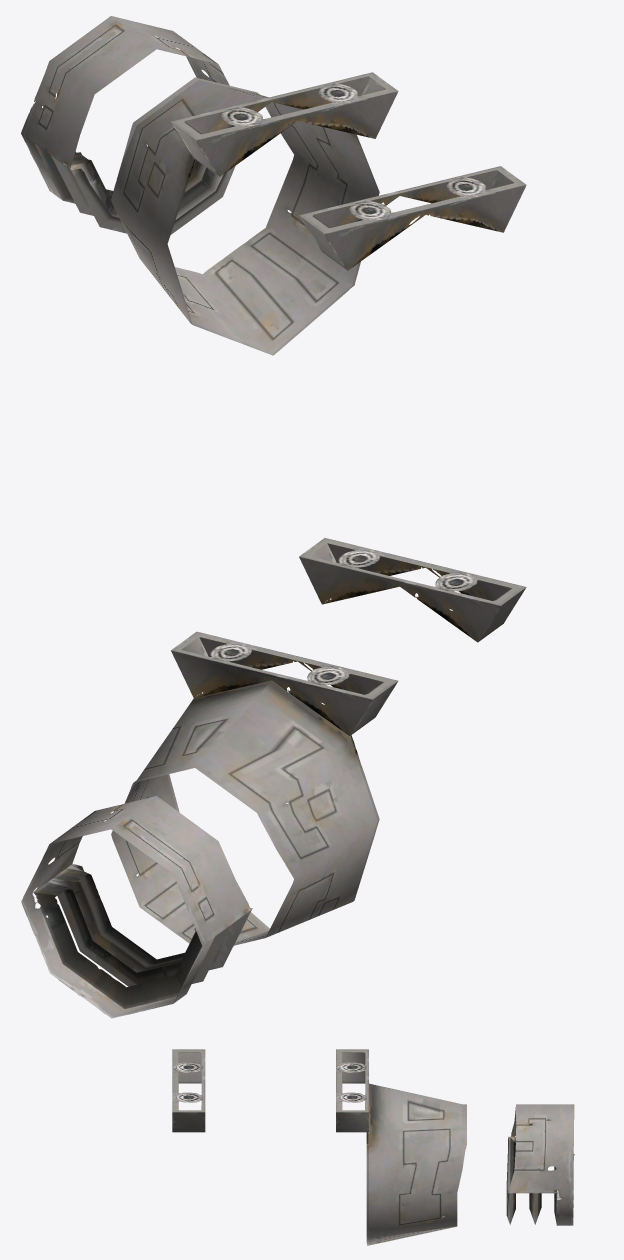
Rendered from hutt_fighter_medium_engine_s01_l1.fbx.
The picture shows the model from 3 angles, top to bottom: view 1: azimuth 30°, elevation 25°; view 2: azimuth 150°, elevation 25°; view 3: azimuth 270°, elevation 25°; orthographic projection. The views are drawn at different scales.
Parts seen in each view (by area): view 1: mesh_node; view 2: mesh_node; view 3: mesh_node.
Part boxes in pixels (x1=…): mesh_node: x1=21, y1=16, x2=526, y2=355; mesh_node: x1=21, y1=538, x2=526, y2=1018; mesh_node: x1=172, y1=1049, x2=574, y2=1245.
Size of the model in its own units: 3.02 by 3.07 by 10.07.
